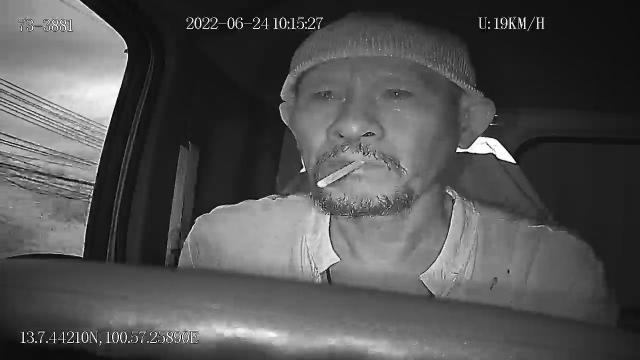SafeDriving: (373, 74, 423, 108), (303, 75, 352, 108)
Smoking: (316, 158, 366, 192)
